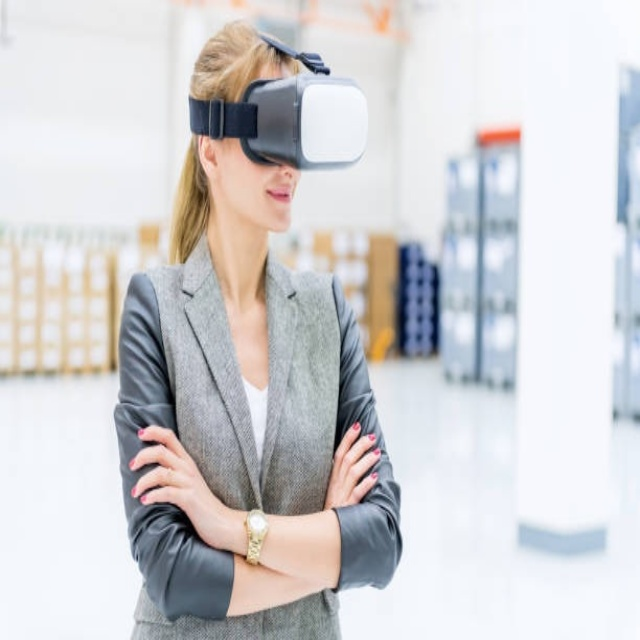Sin_guantes: (127, 417, 230, 544), (323, 420, 381, 513)
Sin_mascara: (254, 180, 297, 224)
